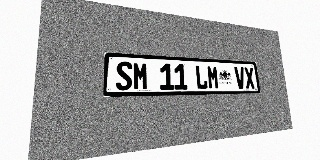1: (159, 63, 174, 90), (173, 64, 187, 90)
L: (195, 65, 208, 89)
M: (133, 62, 148, 90), (207, 65, 219, 89)
S: (116, 61, 132, 90)
V: (234, 67, 246, 89)
X: (244, 67, 255, 89)
